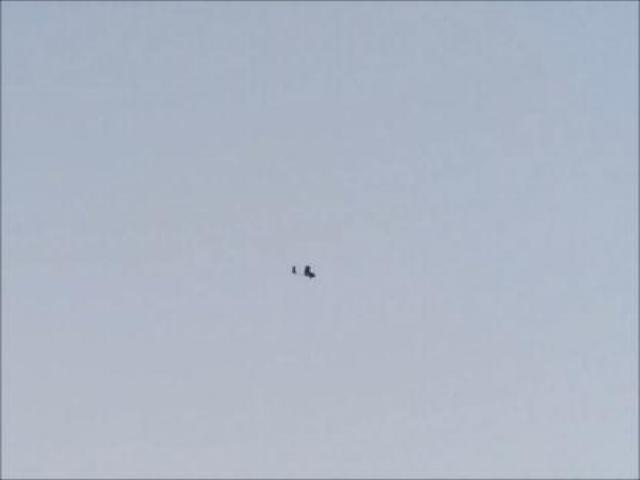uav: (286, 256, 322, 287)
